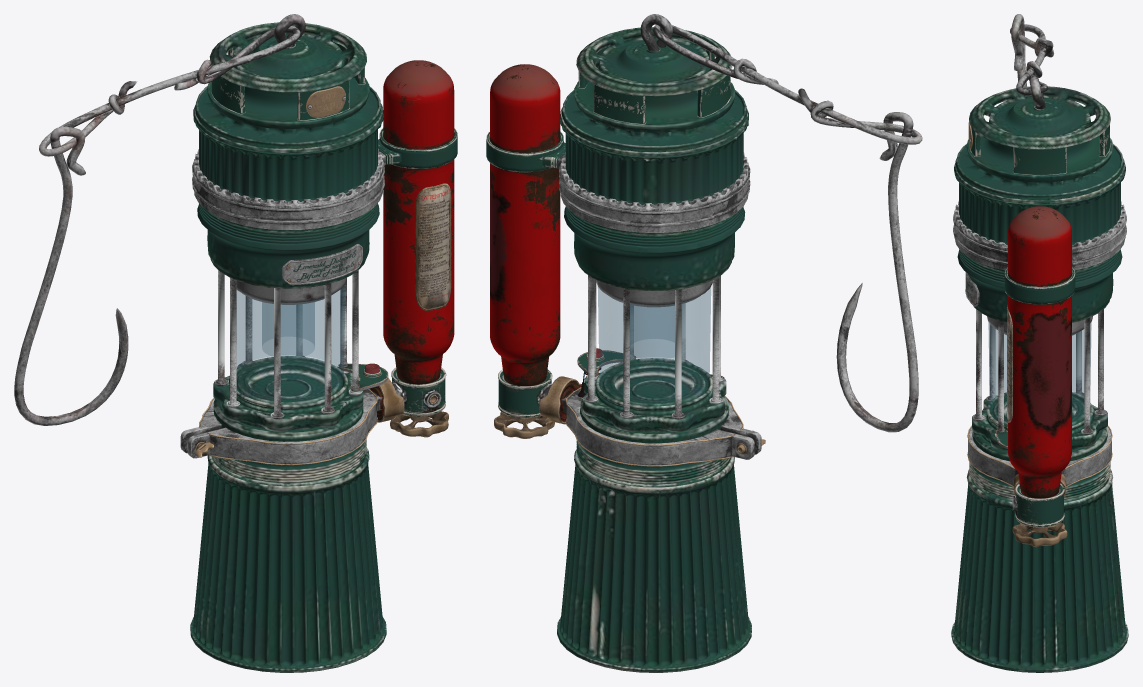
Rendered from Gaslamp.glb.
3 views of the same model, side by side, from view 1: azimuth 30°, elevation 25°; view 2: azimuth 150°, elevation 25°; view 3: azimuth 270°, elevation 25° (orthographic). The views are drawn at different scales.
Visible parts, largest first — view 1: GasLamp, Glass, Hook, Hook_middle, Ventil; view 2: GasLamp, Glass, Hook, Hook_middle, Ventil; view 3: GasLamp, Glass, Hook_middle, Ventil, Hook.
Part boxes in pixels (left/top/right/bottom): GasLamp: left=180, top=14, right=457, bottom=672; Glass: left=237, top=284, right=345, bottom=401; Hook: left=14, top=127, right=128, bottom=425; Hook_middle: left=39, top=25, right=300, bottom=156; Ventil: left=390, top=411, right=448, bottom=437; GasLamp: left=486, top=14, right=765, bottom=672; Glass: left=598, top=287, right=710, bottom=403; Hook: left=836, top=112, right=918, bottom=432; Hook_middle: left=653, top=24, right=922, bottom=144; Ventil: left=494, top=412, right=554, bottom=438; GasLamp: left=951, top=76, right=1128, bottom=672; Glass: left=988, top=322, right=1091, bottom=422; Hook_middle: left=1010, top=24, right=1053, bottom=95; Ventil: left=1012, top=522, right=1067, bottom=547; Hook: left=1011, top=14, right=1026, bottom=87.
Size of the model in its own units: 0.74 by 1.01 by 0.291.
5 materials, 5 textured.
